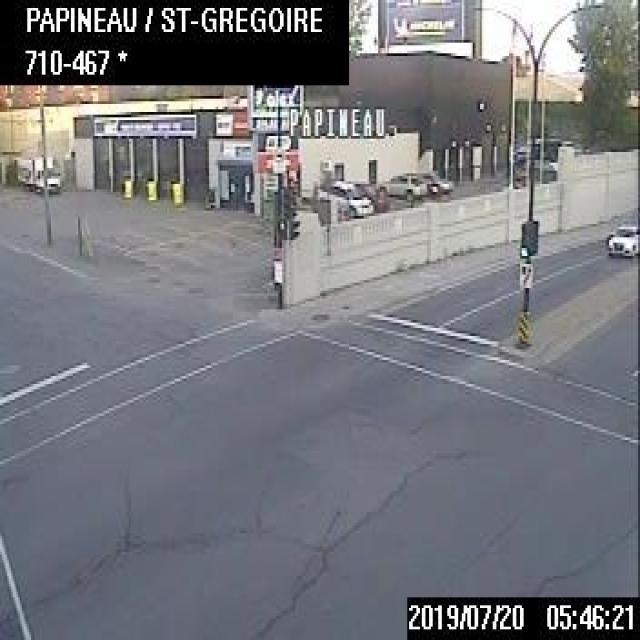vehicle: (312, 173, 372, 216), (14, 150, 61, 195), (378, 168, 426, 198), (606, 219, 638, 256)
